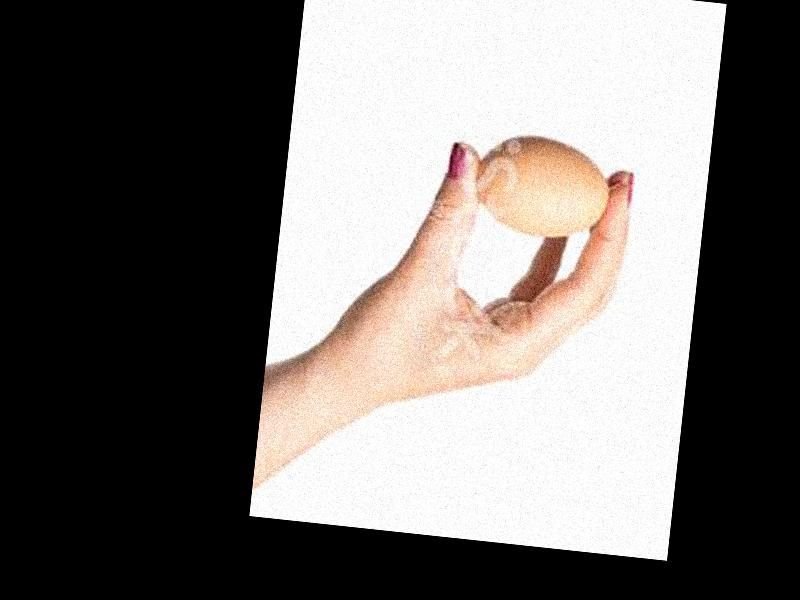Eggs: (470, 134, 613, 241)
